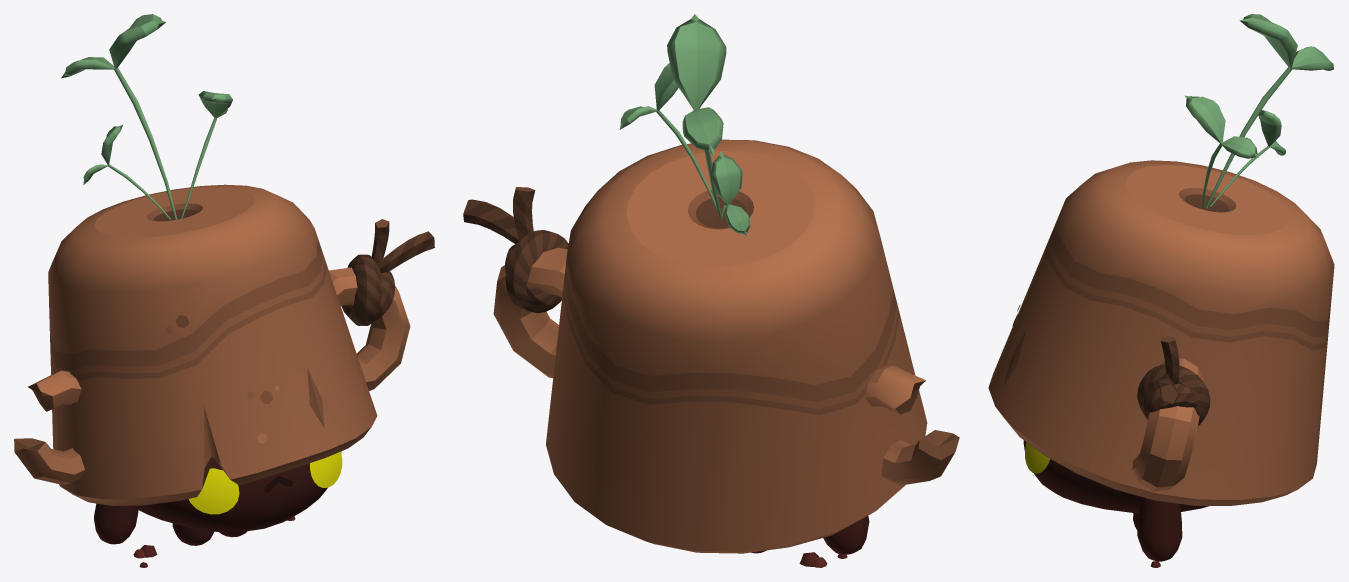
File: pot_1.fbx
The picture shows the model from 3 angles, left to right: view 1: azimuth 30°, elevation 25°; view 2: azimuth 150°, elevation 25°; view 3: azimuth 270°, elevation 25°; orthographic projection. The views are drawn at different scales.
Visible parts, largest first — view 1: pot_1; view 2: pot_1; view 3: pot_1.
Part boxes in pixels (x1,y1,x2,y2): pot_1: [14, 14, 434, 567]; pot_1: [463, 14, 959, 567]; pot_1: [988, 14, 1334, 567].
Size of the model in its own units: 2.91 by 3.24 by 2.02.
